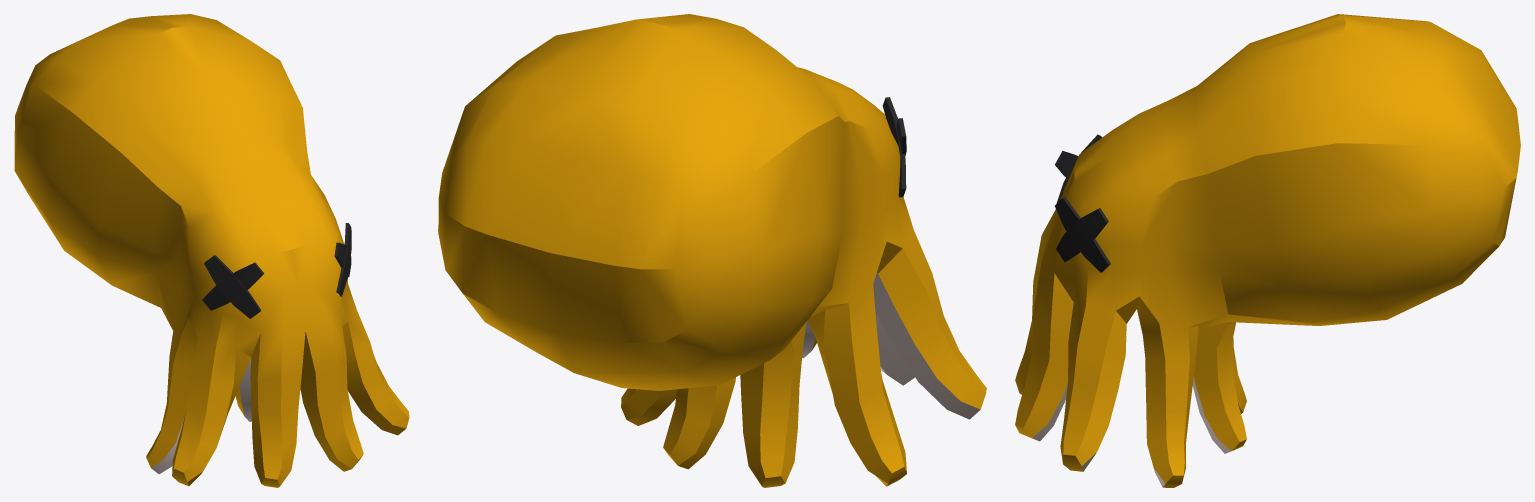
Rendered from sushi-octopus.glb.
The picture shows the model from 3 angles, left to right: view 1: azimuth 30°, elevation 25°; view 2: azimuth 150°, elevation 25°; view 3: azimuth 270°, elevation 25°; orthographic projection. The views are drawn at different scales.
Visible parts, largest first — view 1: FoodIngredient_Octopus; view 2: FoodIngredient_Octopus; view 3: FoodIngredient_Octopus.
Part boxes in pixels (x1,y1,x2,y2): FoodIngredient_Octopus: [14, 14, 409, 487]; FoodIngredient_Octopus: [438, 14, 986, 487]; FoodIngredient_Octopus: [1015, 14, 1520, 487].
Size of the model in its own units: 1.06 by 1.54 by 1.7.
1 material, 1 textured.
